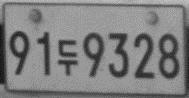1: (36, 30, 51, 76)
2: (133, 32, 155, 79)
3: (107, 31, 129, 78)
8: (157, 32, 181, 80)
9: (8, 30, 30, 76), (82, 32, 104, 77)
두: (56, 38, 80, 77)
